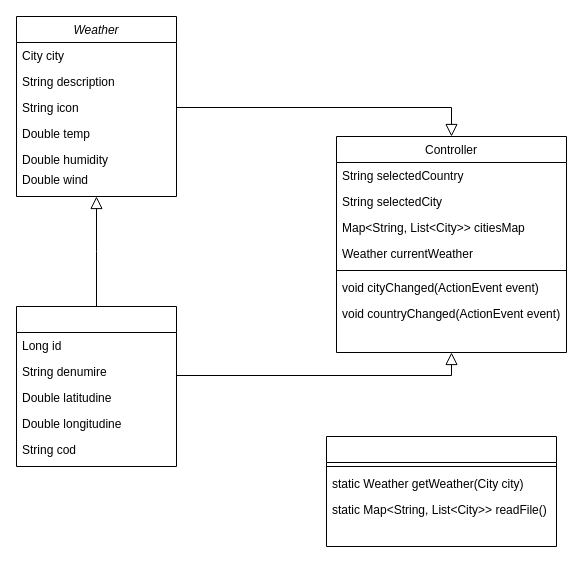
Image size: 583x563. Some labels were removed from this diagram. The box of each missing label's shape, as (x1, y1, x2, y2) in pixels:
City: (16, 306, 176, 466)
Methods: (326, 436, 556, 546)
